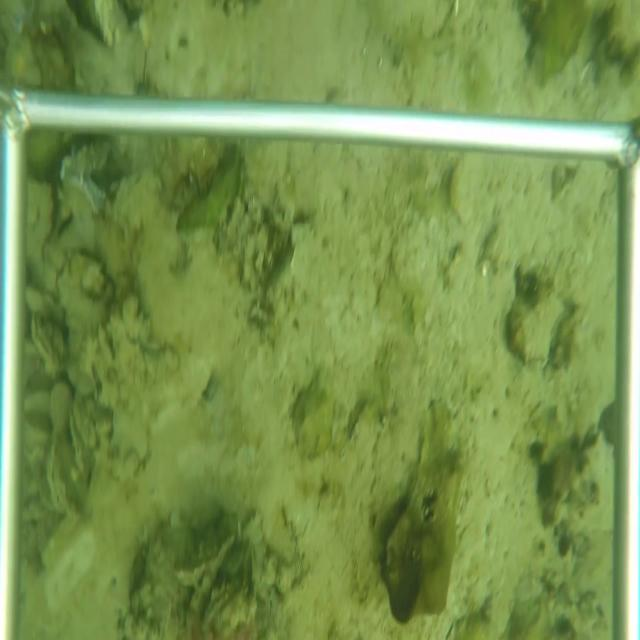Oyster-Closed: (506, 283, 568, 373), (45, 429, 76, 517), (31, 311, 63, 376)
